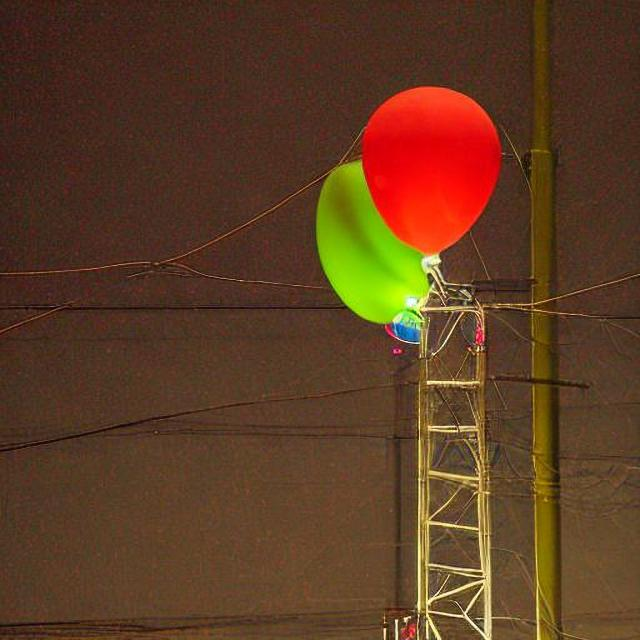balloon: (312, 81, 506, 336)
